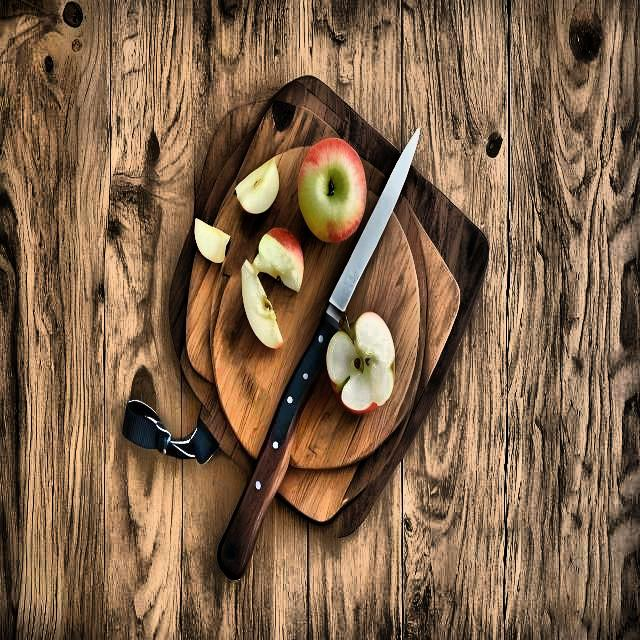knife: (220, 125, 426, 582)
